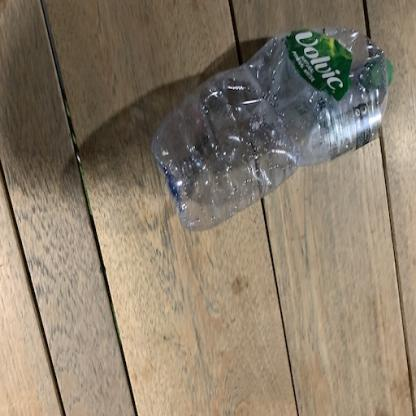trash: (149, 24, 394, 236)
